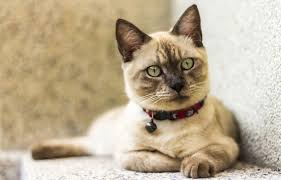Gato: (91, 1, 252, 173)
